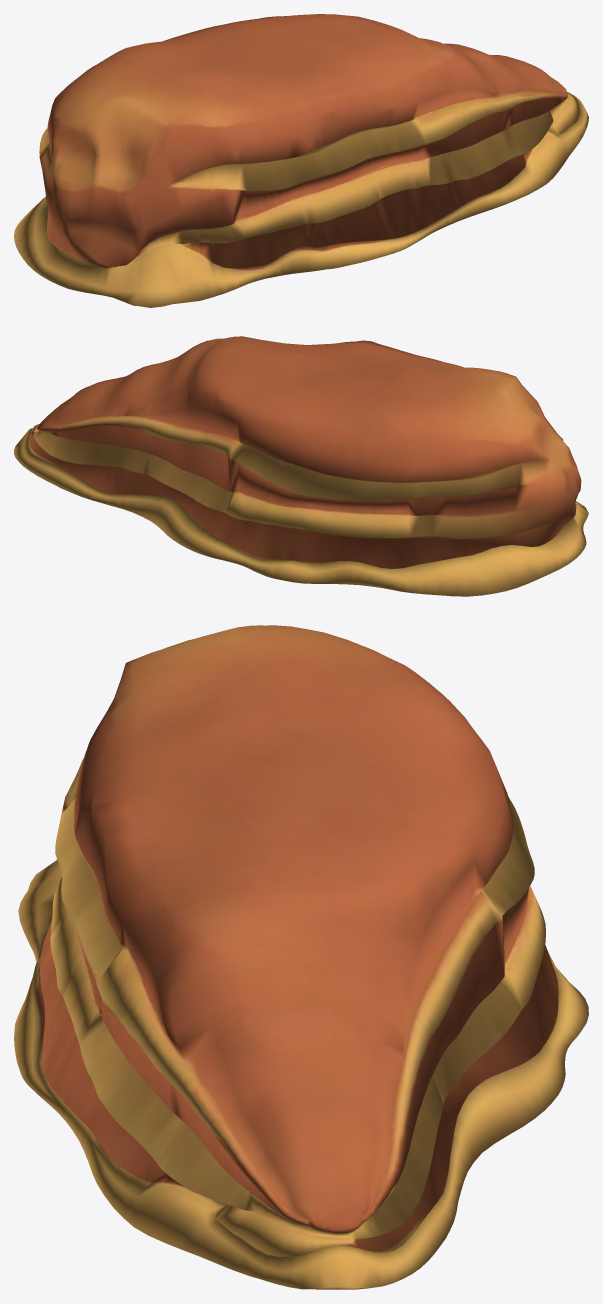
The model's file is SM_Tripo_DesertLowRockA.glb.
3 views of the same model, one above another, from view 1: azimuth 30°, elevation 25°; view 2: azimuth 150°, elevation 25°; view 3: azimuth 270°, elevation 25° (orthographic). The views are drawn at different scales.
Parts seen in each view (by area): view 1: SM_Tripo_DesertLowRockA_LOD0; view 2: SM_Tripo_DesertLowRockA_LOD0; view 3: SM_Tripo_DesertLowRockA_LOD0.
Boxes of the visible parts, box(x1,y1,x2,y2) form: SM_Tripo_DesertLowRockA_LOD0: box(14, 14, 588, 307); SM_Tripo_DesertLowRockA_LOD0: box(14, 336, 588, 596); SM_Tripo_DesertLowRockA_LOD0: box(14, 625, 588, 1289).
Size of the model in its own units: 3.65 by 1 by 1.89.
1 material, 1 textured.
